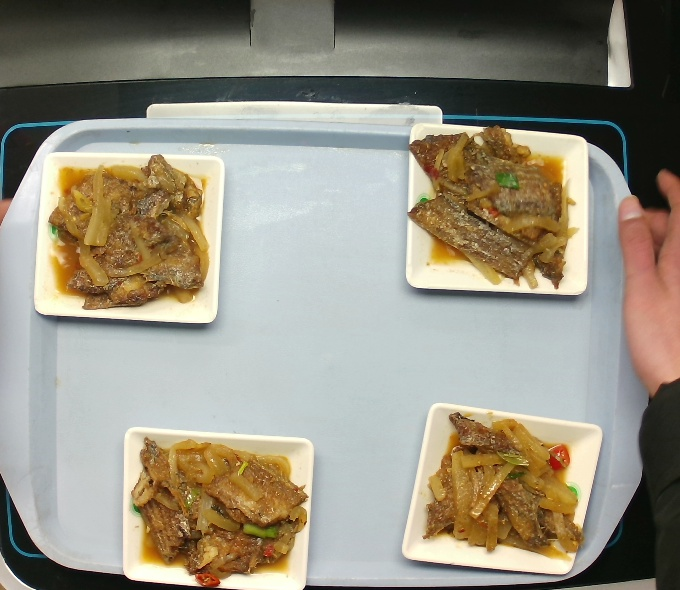wcq-DaiYu: (124, 428, 311, 590), (409, 130, 580, 286), (422, 411, 599, 557), (47, 154, 206, 311)
